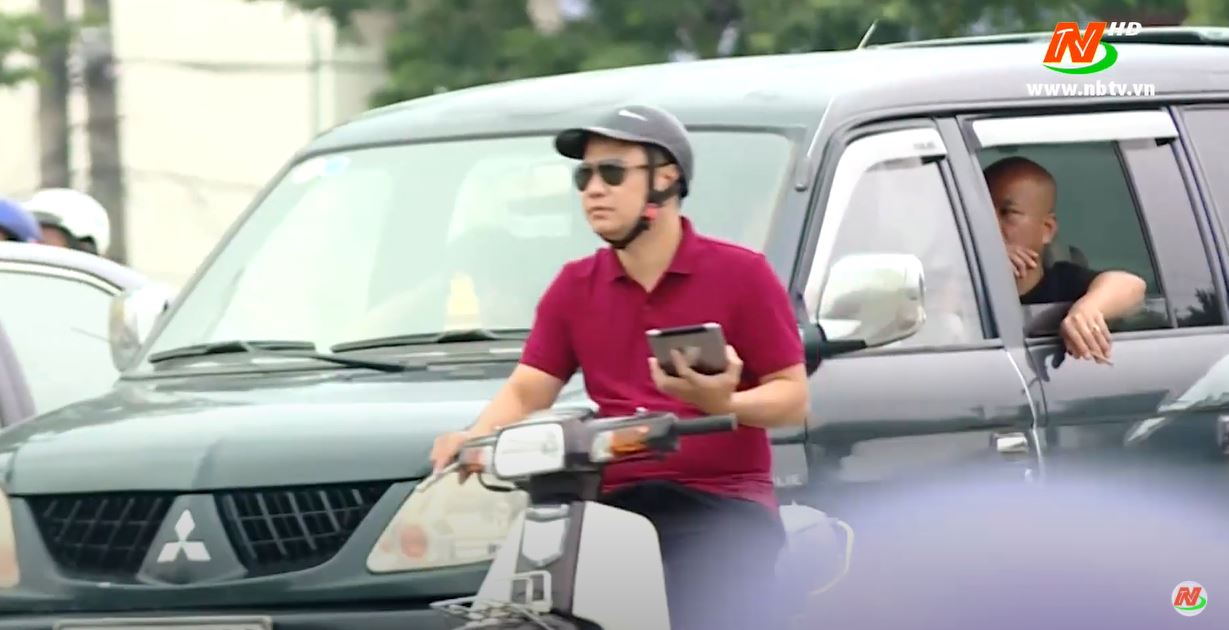dieu khien xe may: (451, 103, 749, 627)
su dung dien thoai: (554, 105, 746, 405)
